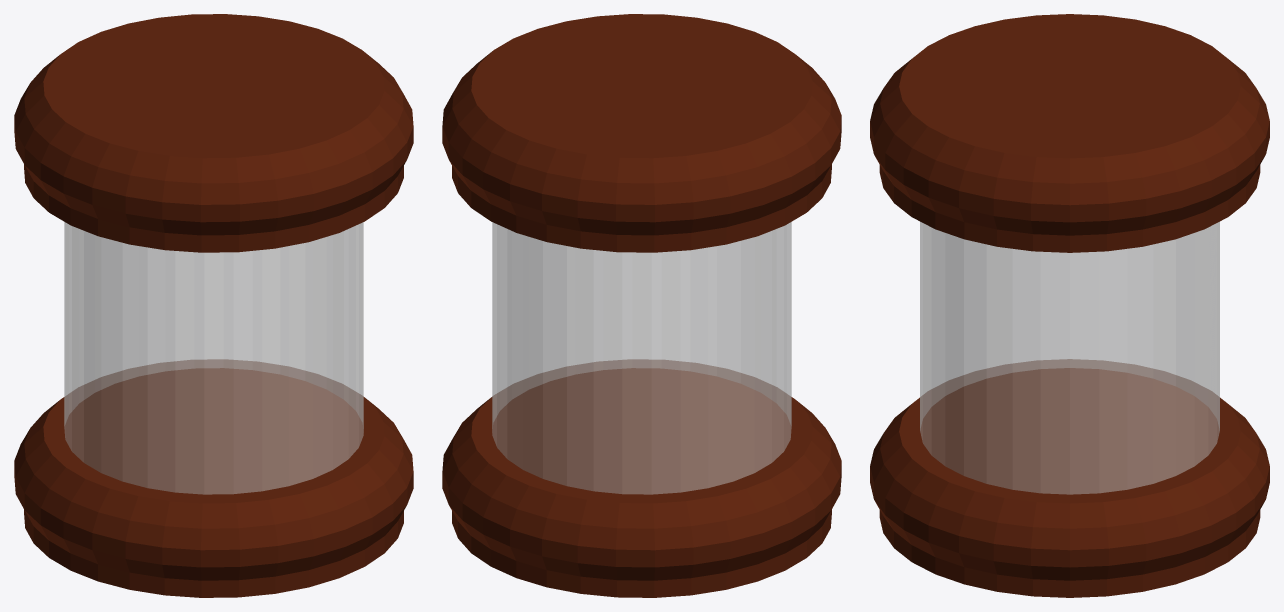
File: lamp.dae
3 renders of one model, left to right at view 1: azimuth 30°, elevation 25°; view 2: azimuth 150°, elevation 25°; view 3: azimuth 270°, elevation 25°, orthographic.
Parts seen in each view (by area): view 1: Circle_001; view 2: Circle_001; view 3: Circle_001.
Boxes of the visible parts, left/top/right/bottom form: Circle_001: left=14, top=14, right=413, bottom=597; Circle_001: left=442, top=14, right=841, bottom=597; Circle_001: left=870, top=14, right=1269, bottom=597.
Bounding box in the file's own units: 1.05 × 1.05 × 1.25.
